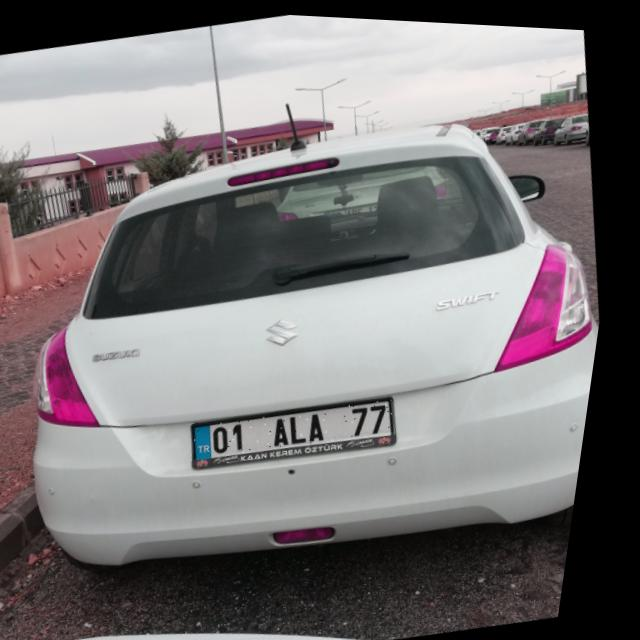license_plate: (200, 386, 410, 465)
